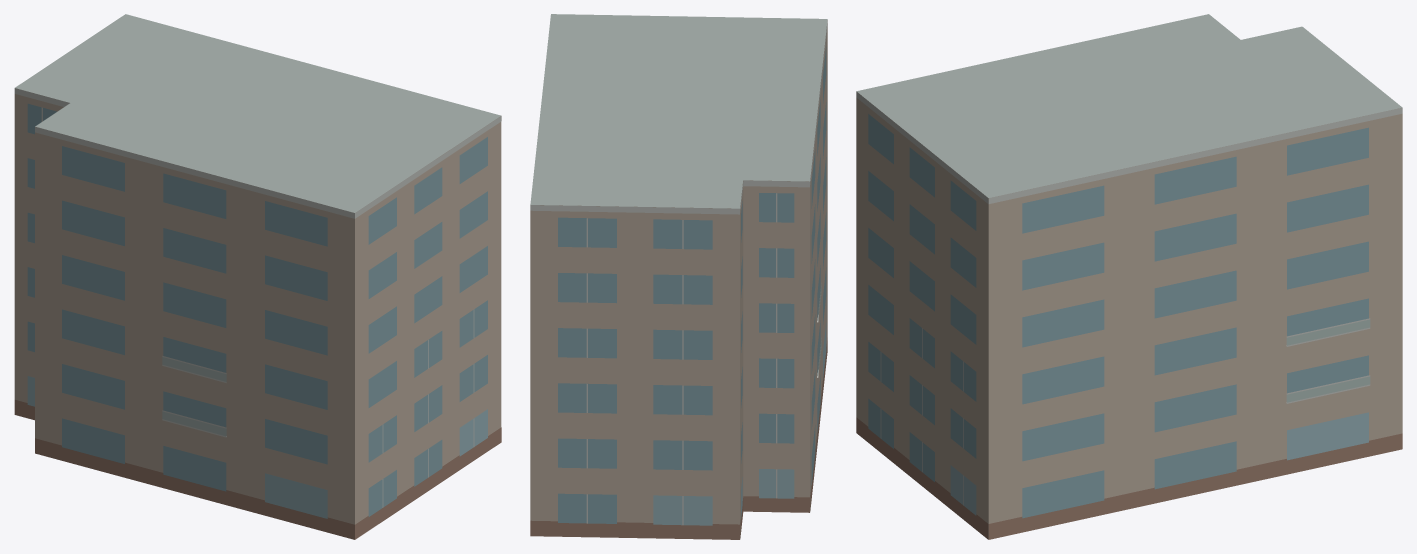
The model's file is survey-upis-32656679.glb.
The picture shows the model from 3 angles, left to right: view 1: azimuth 30°, elevation 25°; view 2: azimuth 150°, elevation 25°; view 3: azimuth 270°, elevation 25°; orthographic projection. The views are drawn at different scales.
Visible parts, largest first — view 1: survey-upis-32656679.tmp; view 2: survey-upis-32656679.tmp; view 3: survey-upis-32656679.tmp.
Part boxes in pixels (x1,y1,x2,y2): survey-upis-32656679.tmp: (14,14,501,539); survey-upis-32656679.tmp: (530,14,827,539); survey-upis-32656679.tmp: (856,14,1402,539).
Bounding box in the file's own units: 15.85 × 13.7 × 19.86.
